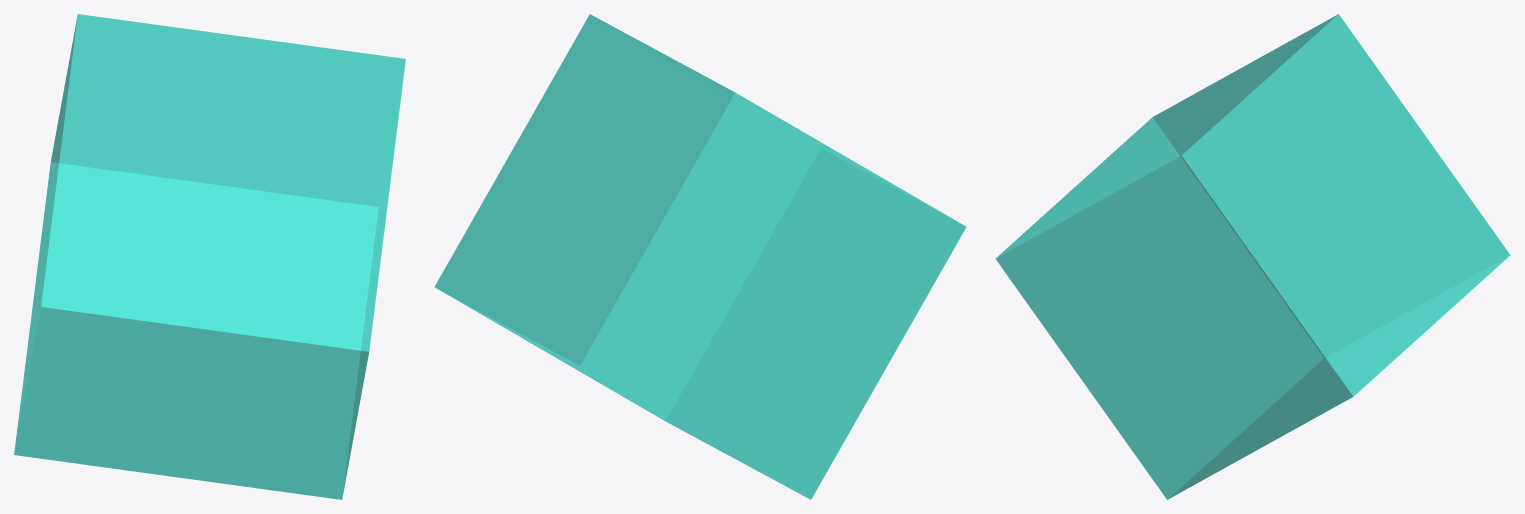
Rendered from checkpoint_object.fbx.
3 renders of one model, left to right at view 1: azimuth 30°, elevation 25°; view 2: azimuth 150°, elevation 25°; view 3: azimuth 270°, elevation 25°, orthographic. The views are drawn at different scales.
Parts seen in each view (by area): view 1: Cube; view 2: Cube; view 3: Cube.
Boxes of the visible parts, bbox=[...] form: Cube: bbox=[14, 14, 405, 499]; Cube: bbox=[434, 14, 966, 499]; Cube: bbox=[995, 14, 1510, 499].
Bounding box in the file's own units: 313 × 305 × 346.
